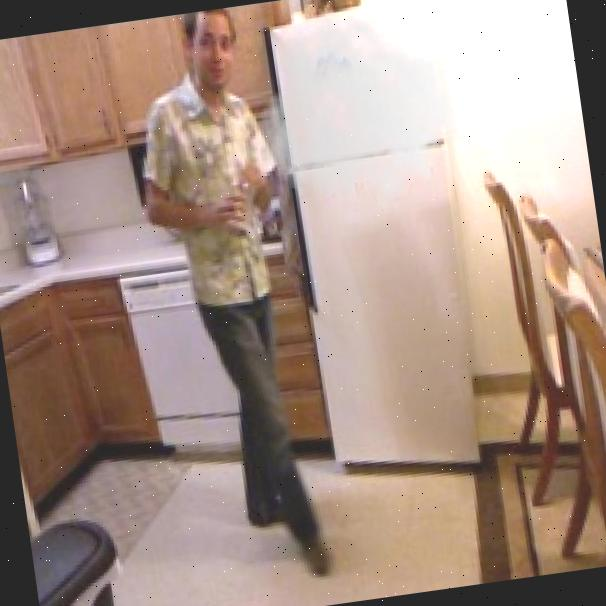smoke: (243, 0, 509, 240)
